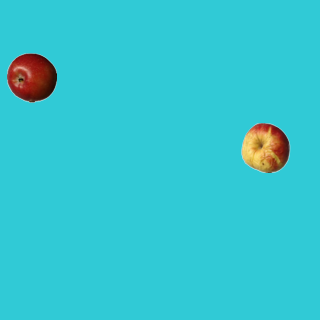Apple Braeburn: (6, 52, 56, 102)
Apple Red Yellow 1: (240, 122, 290, 172)
